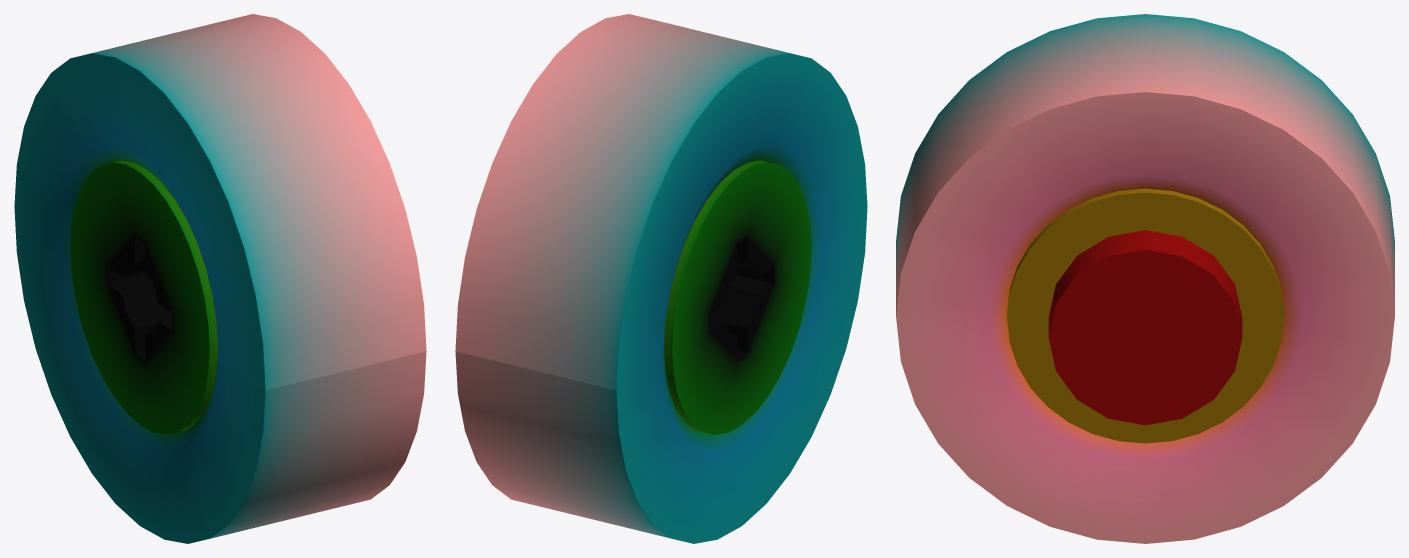
Rendered from SM_Wheel_2x2s.gltf.
The picture shows the model from 3 angles, left to right: view 1: azimuth 30°, elevation 25°; view 2: azimuth 150°, elevation 25°; view 3: azimuth 270°, elevation 25°; orthographic projection.
Visible parts, largest first — view 1: SM_Wheel_2x2s; view 2: SM_Wheel_2x2s; view 3: SM_Wheel_2x2s.
Boxes of the visible parts, x1=… form: SM_Wheel_2x2s: x1=14, y1=14, x2=426, y2=543; SM_Wheel_2x2s: x1=455, y1=14, x2=867, y2=543; SM_Wheel_2x2s: x1=896, y1=14, x2=1394, y2=543.
Bounding box in the file's own units: 0.25 × 0.54 × 0.54.
